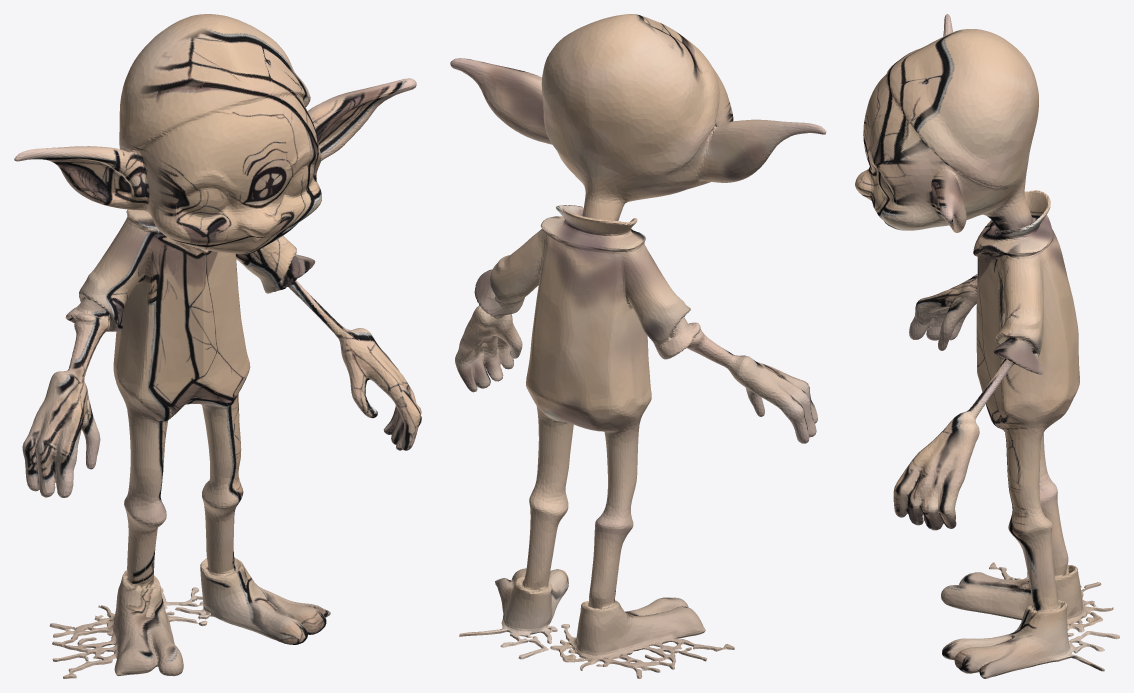
The model's file is cardboard_goblin_local.glb.
3 renders of one model, left to right at view 1: azimuth 30°, elevation 25°; view 2: azimuth 150°, elevation 25°; view 3: azimuth 270°, elevation 25°, orthographic. The views are drawn at different scales.
Visible parts, largest first — view 1: geometry_0; view 2: geometry_0; view 3: geometry_0.
Part boxes in pixels (<box>): geometry_0: <box>14,14,421,678</box>; geometry_0: <box>450,14,826,678</box>; geometry_0: <box>855,14,1119,678</box>.
Bounding box in the file's own units: 0.8603 × 1.3 × 0.5285.
Materials: 1 (1 with a texture image).
